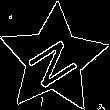N_NE: (23, 29, 85, 90)
